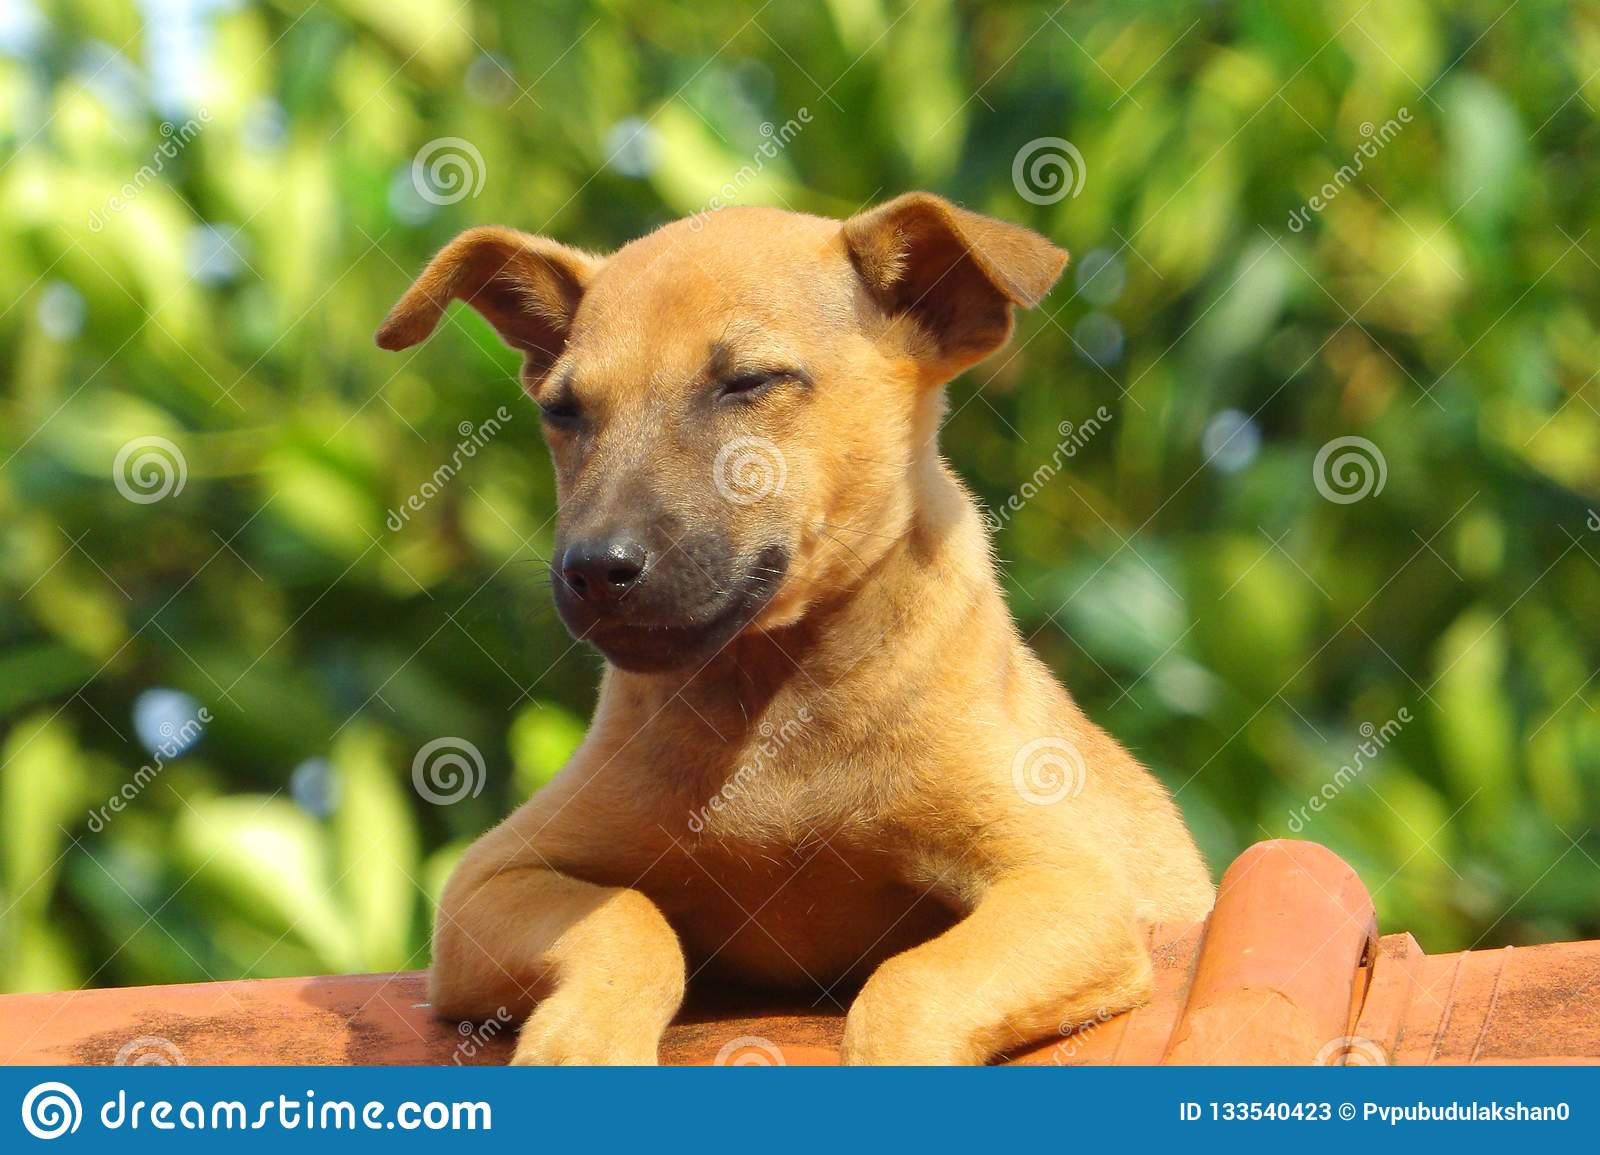Dog: (380, 170, 1220, 1059)
